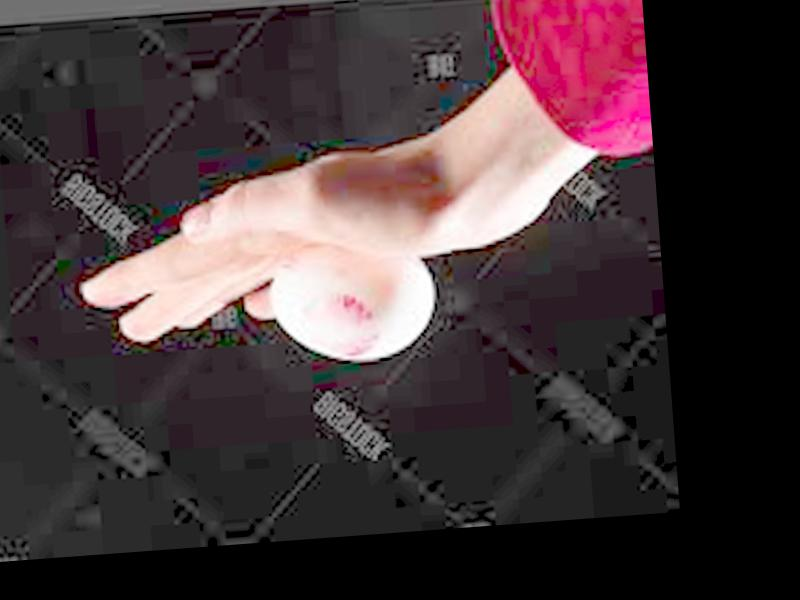Eggs: (273, 247, 440, 367)
